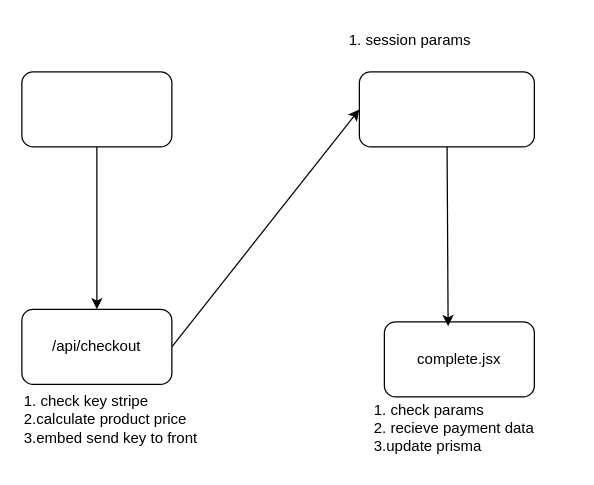
Some shapes in this 594 by 485 pixel diagram are drawn without their labels. The shapes that lost their labels are listed below. From the top down, each one's box as (x1, y1, x2, y2) in pixels, then its label:
(21, 71, 172, 147): checkout.jsx
(358, 71, 534, 147): CheckoutComplete.jsx
